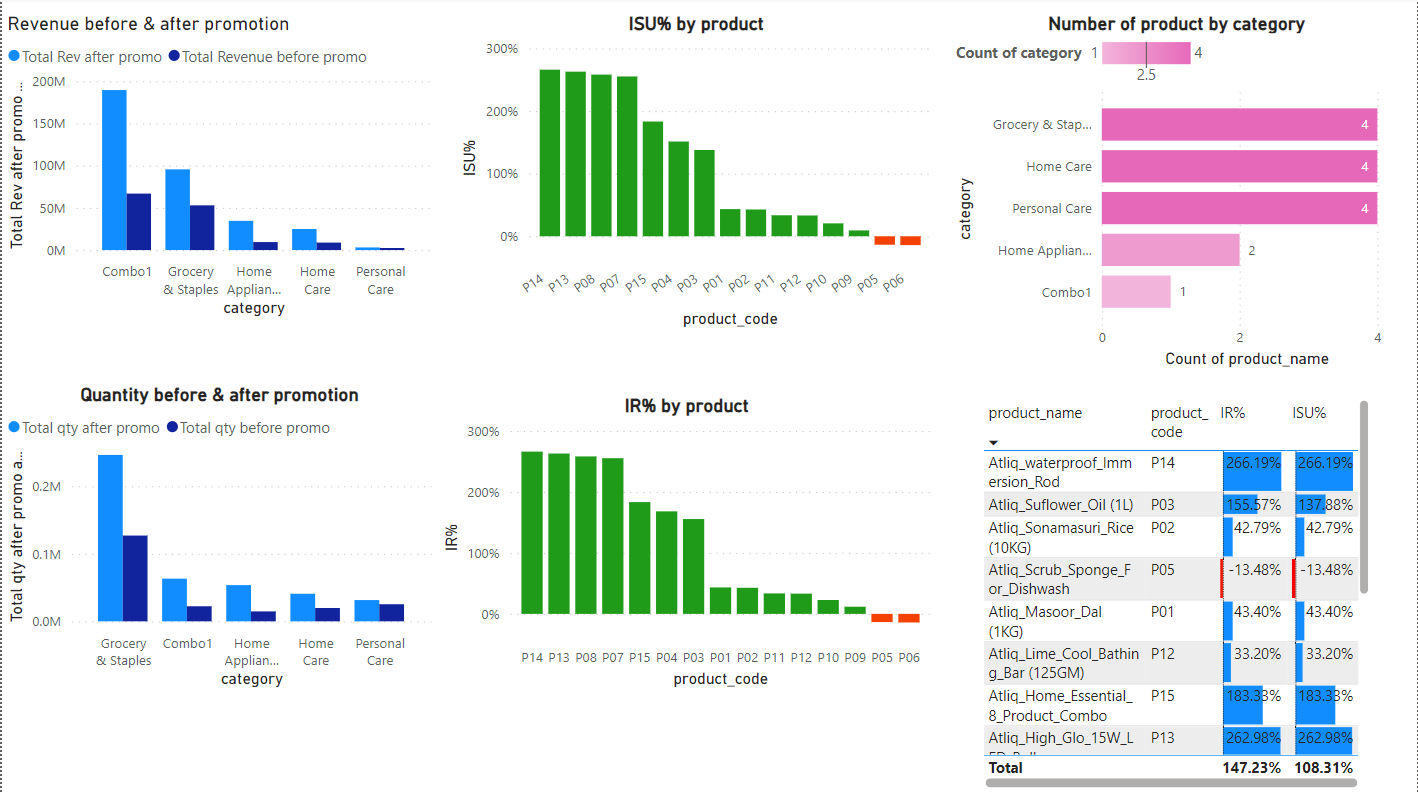

Layout of this report page (visuals, bound fields, positions):
{"tool":"powerbi","page":{"name":"Producy&Category","canvas":[1280,720],"ordinal":2},"visuals":[{"type":"clusteredColumnChart","title":"Revenue before & after promotion","fields":{"Category":["dim_products.category"],"Y":["fact_events.Total Rev after promo","fact_events.Total Revenue before promo"]},"box":[0,13.9,393.5,280],"z":0},{"type":"clusteredColumnChart","title":"Quantity before & after promotion","fields":{"Category":["dim_products.category"],"Y":["fact_events.Total qty after promo","fact_events.Total qty before promo"]},"box":[0,349.4,393.5,280],"z":2},{"type":"clusteredBarChart","title":"Number of product by category","fields":{"Category":["dim_products.category"],"Y":["CountNonNull(dim_products.product_name)"]},"box":[857.7,13.9,408.7,326.7],"z":3},{"type":"clusteredColumnChart","title":"IR% by product","fields":{"Category":["dim_products.product_code"],"Y":["fact_events.IR%"]},"box":[393.5,359.5,451.6,269.9],"z":4},{"type":"clusteredColumnChart","title":"ISU% by product","fields":{"Category":["dim_products.product_code"],"Y":["fact_events.ISU%"]},"box":[409.9,13.9,435.2,290.1],"z":5},{"type":"tableEx","fields":{"Values":["dim_products.product_name","dim_products.product_code","fact_events.IR%","fact_events.ISU%"]},"box":[881.7,359.5,359.5,360.7],"z":6}]}

Visuals, with their boxes in screenshot pixels (x1, y1, x2, y2), scaled from the page's 1280x720 canvas onto the 1418x793 screenshot:
"Revenue before & after promotion" clusteredColumnChart: region(0, 15, 436, 324)
"Quantity before & after promotion" clusteredColumnChart: region(0, 385, 436, 693)
"Number of product by category" clusteredBarChart: region(950, 15, 1403, 375)
"IR% by product" clusteredColumnChart: region(436, 396, 936, 693)
"ISU% by product" clusteredColumnChart: region(454, 15, 936, 335)
tableEx - dim_products.product_name x dim_products.product_code: region(977, 396, 1375, 792)
